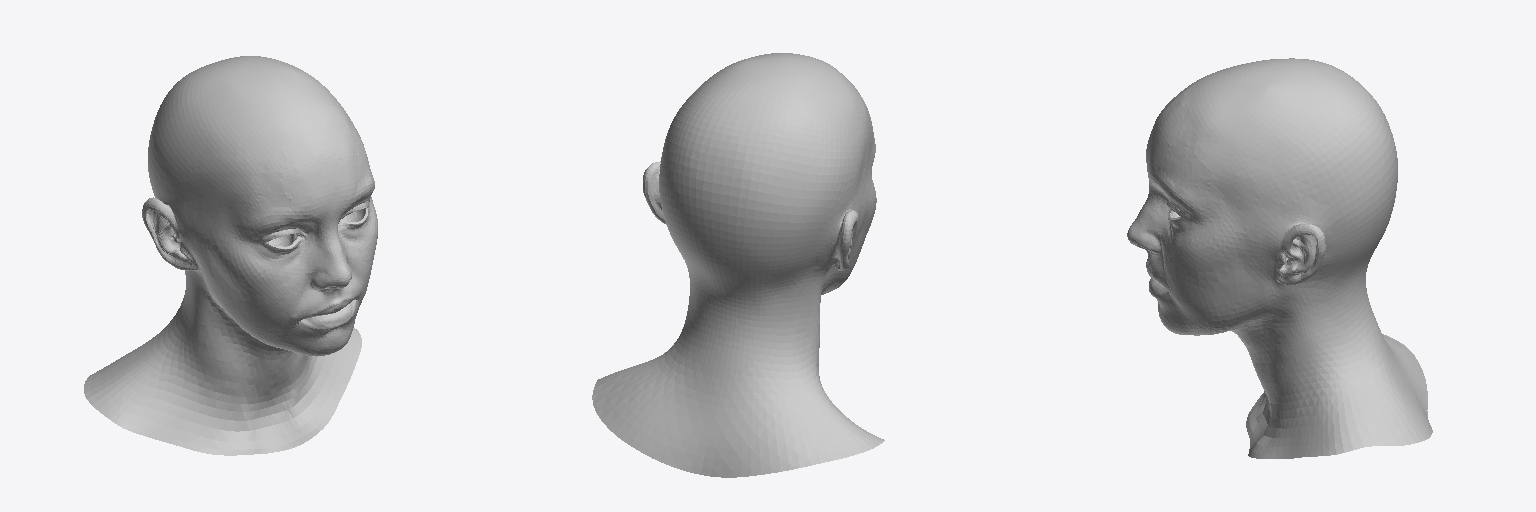
File: closest_vertices_closed_bricolage.obj
3 renders of one model, left to right at view 1: azimuth 30°, elevation 25°; view 2: azimuth 150°, elevation 25°; view 3: azimuth 270°, elevation 25°, orthographic.
Size of the model in its own units: 22.74 by 30.17 by 22.37.